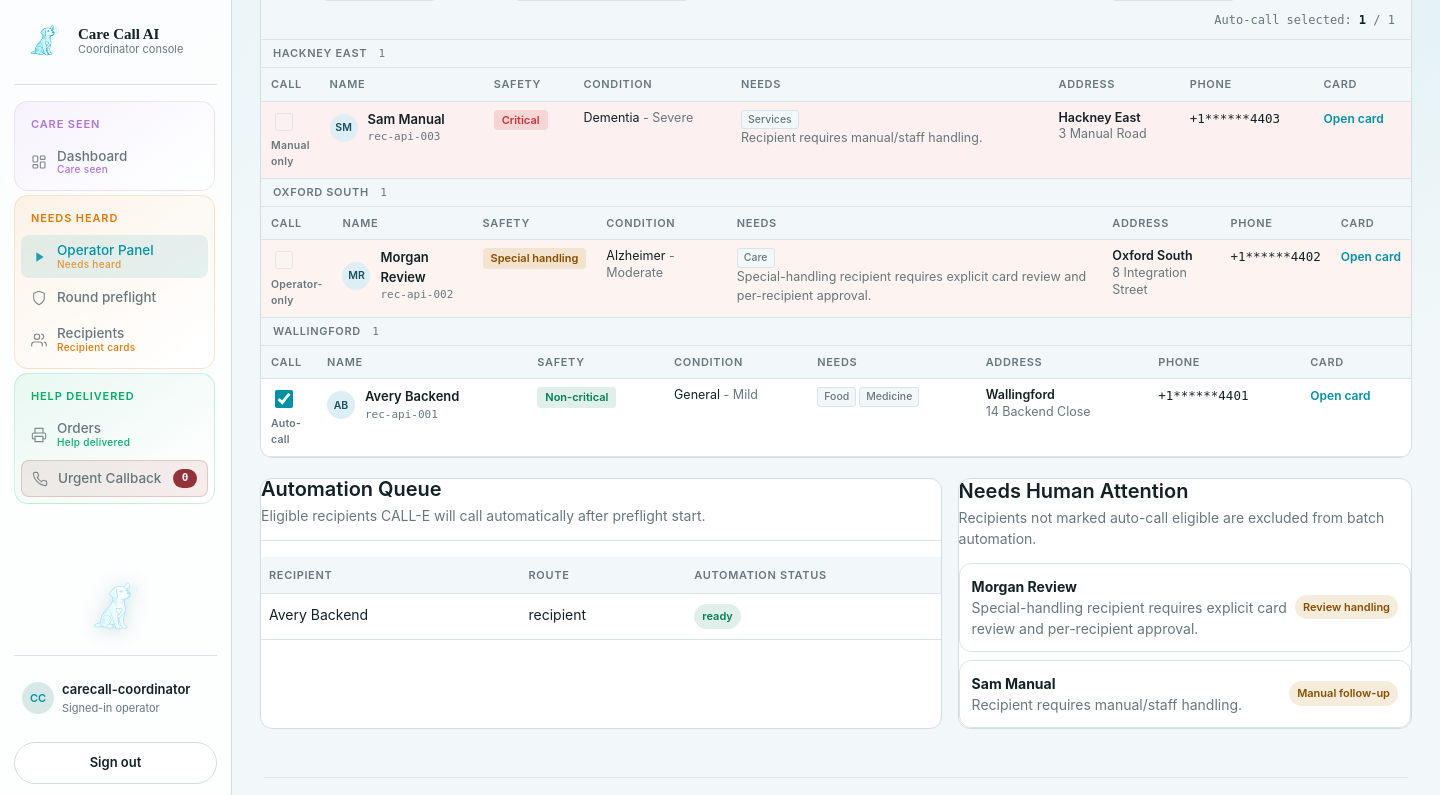
Test case: DashboardPage › persists dashboard checkbox edits for preflight and later Daily round returns
(page scrolled)
Click the checkbox named "Include Avery Backend in auto-call" at (284, 399), box [275,390,293,408]
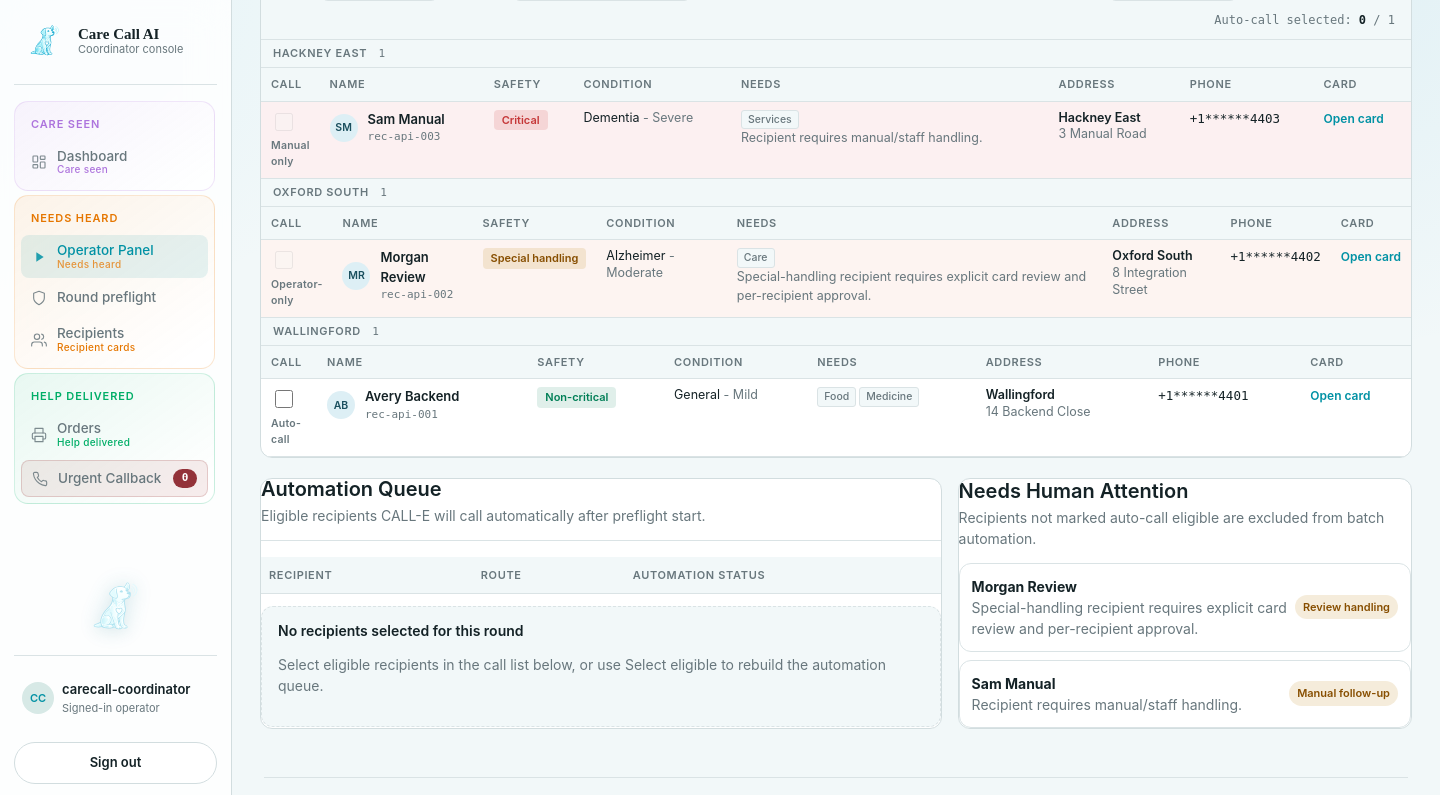
Expected: the checkbox named "Include Avery Backend in auto-call" is not checked, [275,390,293,408]
Expected: the heading "No recipients selected for this round" is shown, [278,622,524,639]
